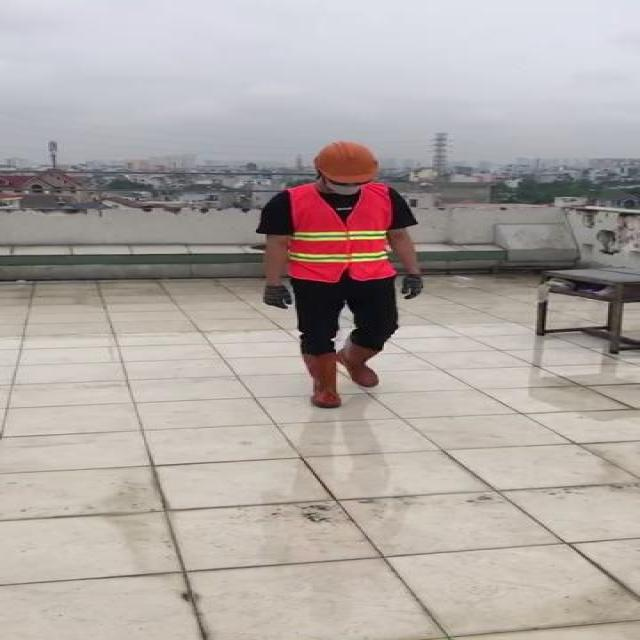boots: (295, 350, 343, 408), (338, 335, 378, 388)
hand_glove: (398, 275, 423, 301), (262, 286, 292, 307)
head_helmet: (308, 139, 379, 185)
person: (252, 136, 432, 412)
vest: (284, 184, 394, 282)
